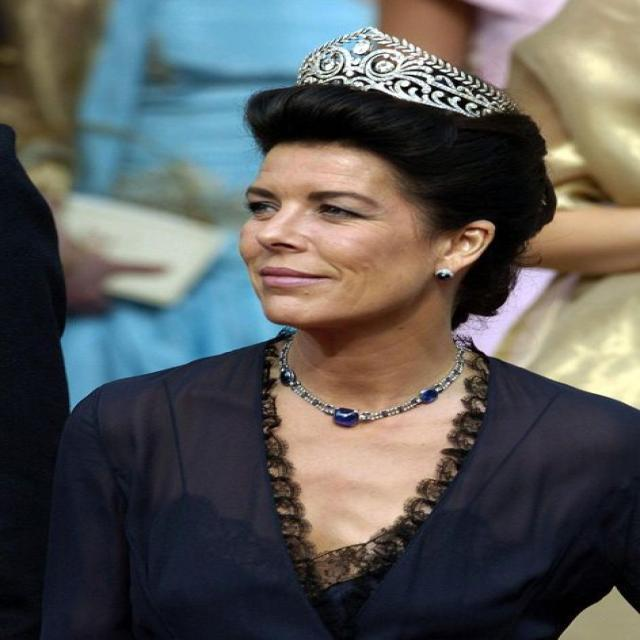Earring: (427, 264, 455, 295)
